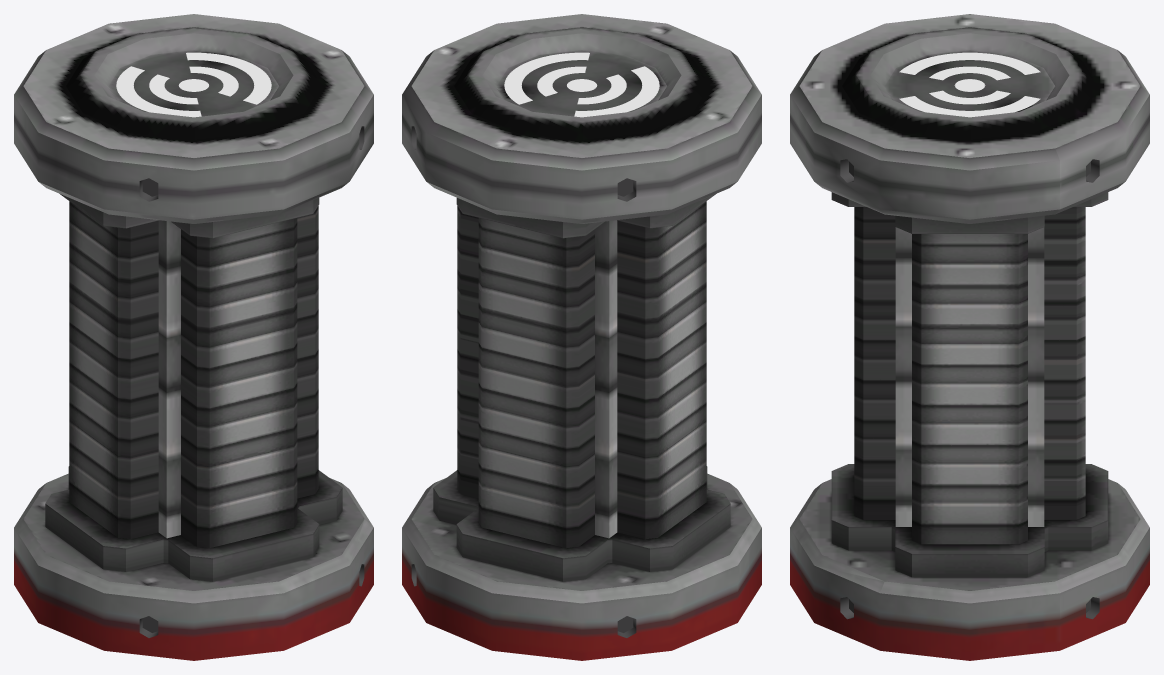
File: DYN_AlarmLock.FBX
The picture shows the model from 3 angles, left to right: view 1: azimuth 30°, elevation 25°; view 2: azimuth 150°, elevation 25°; view 3: azimuth 270°, elevation 25°; orthographic projection.
Parts seen in each view (by area): view 1: sm_alarm_lock; view 2: sm_alarm_lock; view 3: sm_alarm_lock.
Part boxes in pixels (x1=…): sm_alarm_lock: x1=14, y1=14, x2=373, y2=660; sm_alarm_lock: x1=402, y1=14, x2=761, y2=660; sm_alarm_lock: x1=790, y1=14, x2=1149, y2=660.
Bounding box in the file's own units: 58.06 × 90.76 × 58.06.
3 materials, 3 textured.
